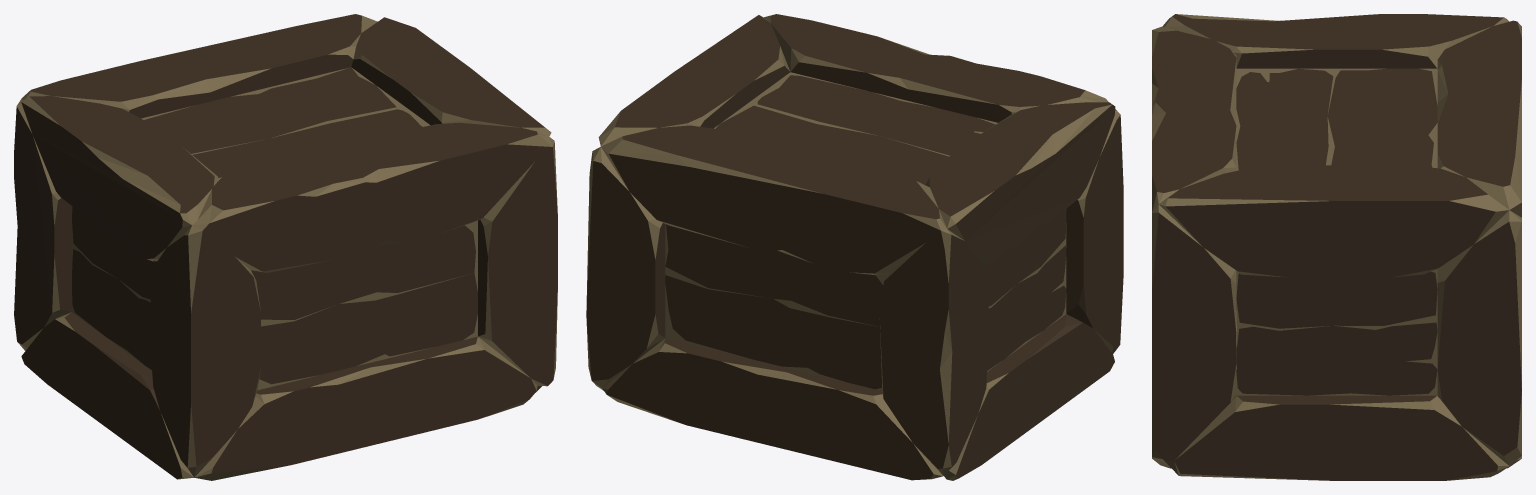
File: Wooden_box_C_01.FBX
3 renders of one model, left to right at view 1: azimuth 30°, elevation 25°; view 2: azimuth 150°, elevation 25°; view 3: azimuth 270°, elevation 25°, orthographic. The views are drawn at different scales.
Parts seen in each view (by area): view 1: Wooden_box_C_01; view 2: Wooden_box_C_01; view 3: Wooden_box_C_01.
Part boxes in pixels (x1,y1,x2,y2): Wooden_box_C_01: [14, 14, 557, 480]; Wooden_box_C_01: [586, 14, 1123, 480]; Wooden_box_C_01: [1152, 14, 1521, 480].
Bounding box in the file's own units: 1.18 × 0.8218 × 0.9837.
